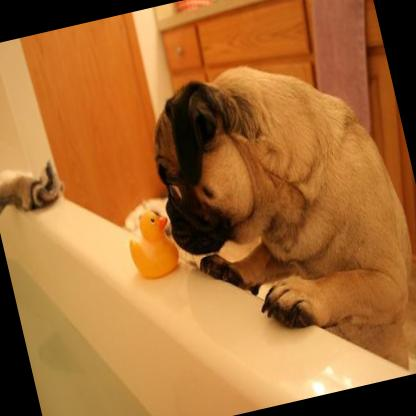pug: (136, 36, 416, 411)
